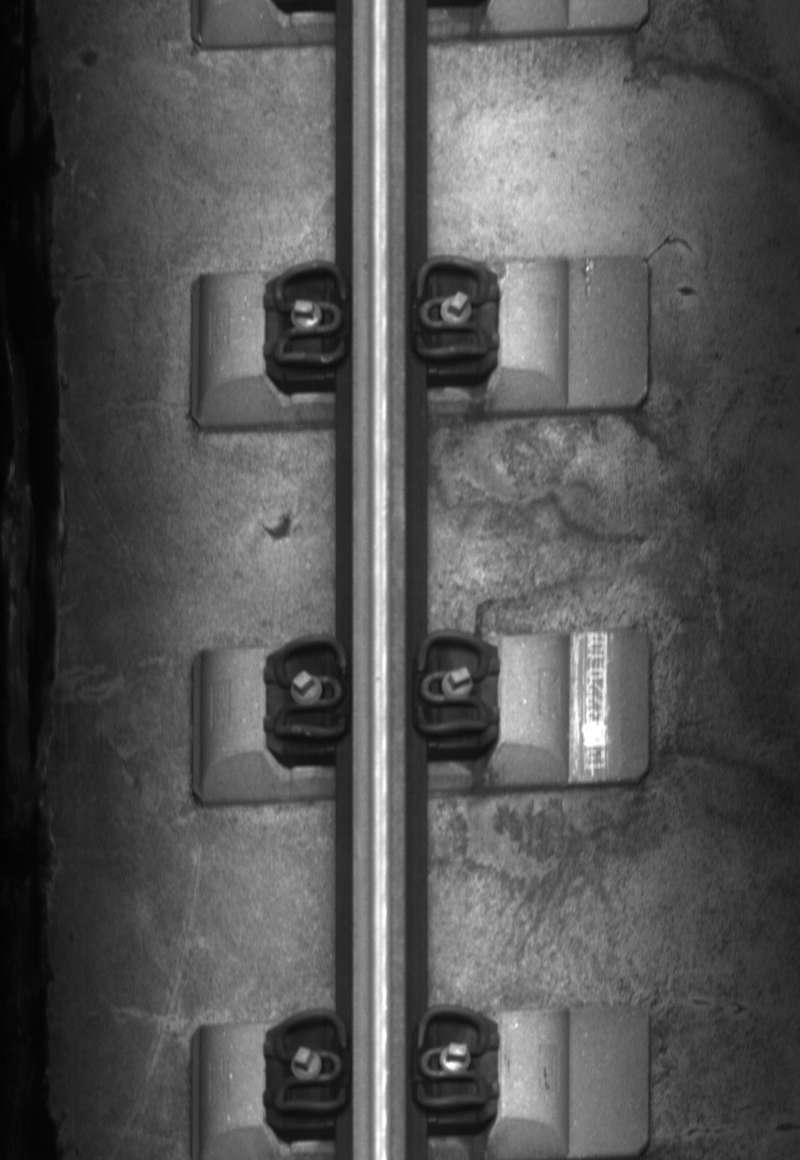l_faster: (267, 629, 353, 743), (269, 1005, 352, 1120), (268, 259, 352, 370)
r_faster: (410, 253, 492, 365), (412, 628, 492, 739), (412, 1003, 492, 1113)
